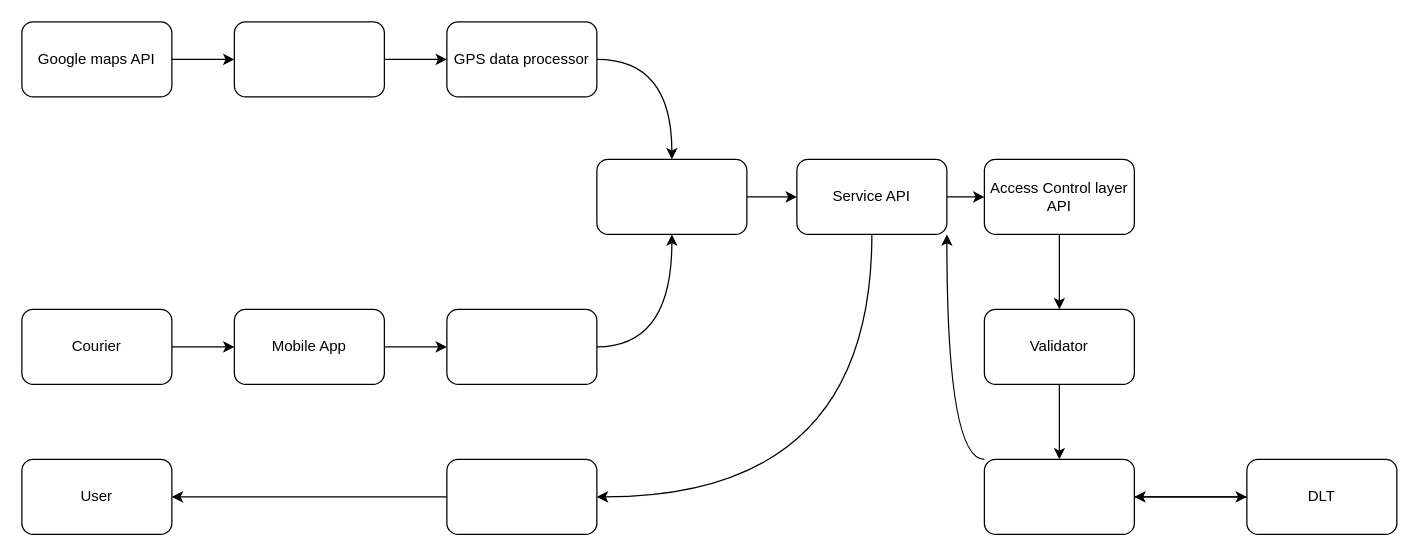
Image size: 1419x556. Some labels were removed from this diagram. Here are the shapes that lost their labels. From the top down, the centre of each, then its label:
At pixel 308 59: "GPS data provider".
At pixel 671 196: "Proxy".
At pixel 521 346: "Delivery status updater".
At pixel 521 496: "Web service".
At pixel 1058 496: "Transaction processor".
